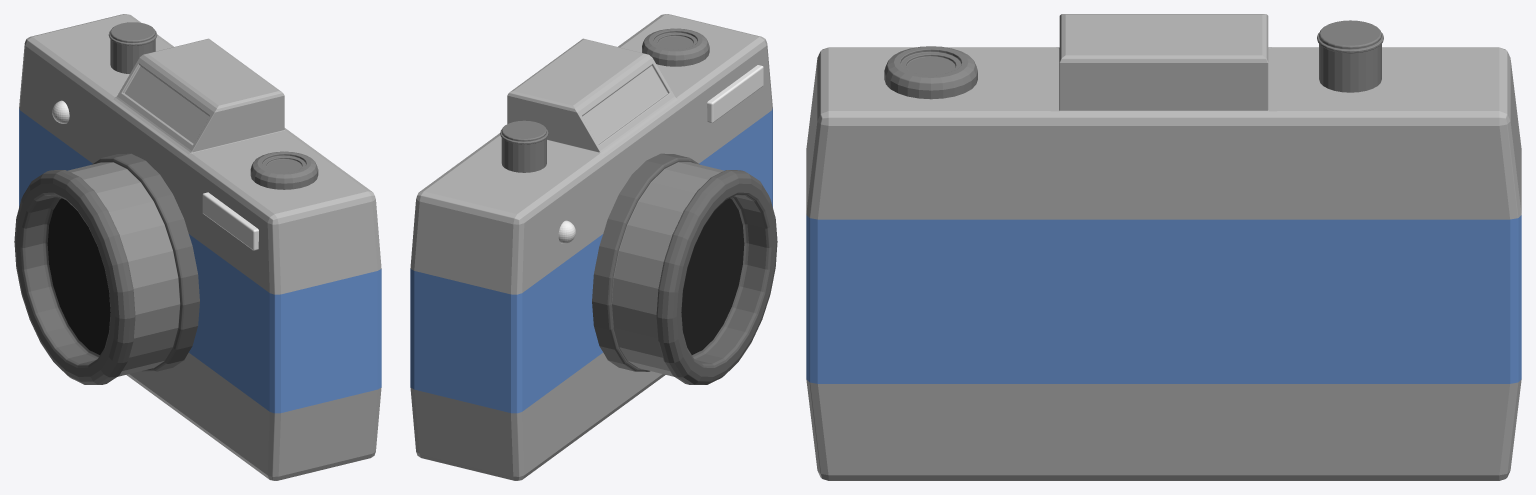
Rendered from Camera.fbx.
3 views of the same model, side by side, from view 1: azimuth 30°, elevation 25°; view 2: azimuth 150°, elevation 25°; view 3: azimuth 270°, elevation 25° (orthographic). The views are drawn at different scales.
Visible parts, largest first — view 1: Camera; view 2: Camera; view 3: Camera.
Boxes of the visible parts, x1=… form: Camera: x1=14, y1=14, x2=381, y2=480; Camera: x1=410, y1=14, x2=777, y2=480; Camera: x1=806, y1=14, x2=1521, y2=480.
Size of the model in its own units: 201 by 309 by 474.
